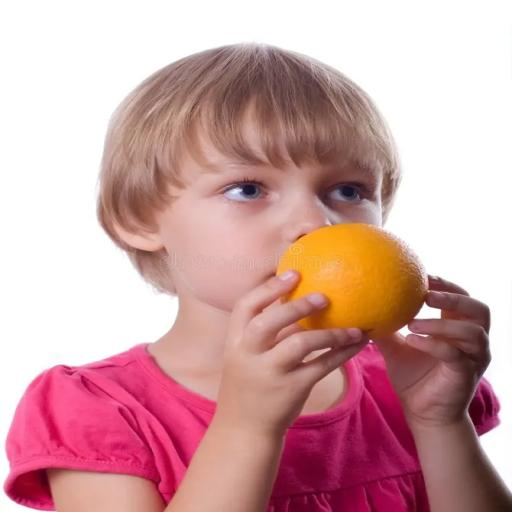orange: (278, 224, 428, 339)
